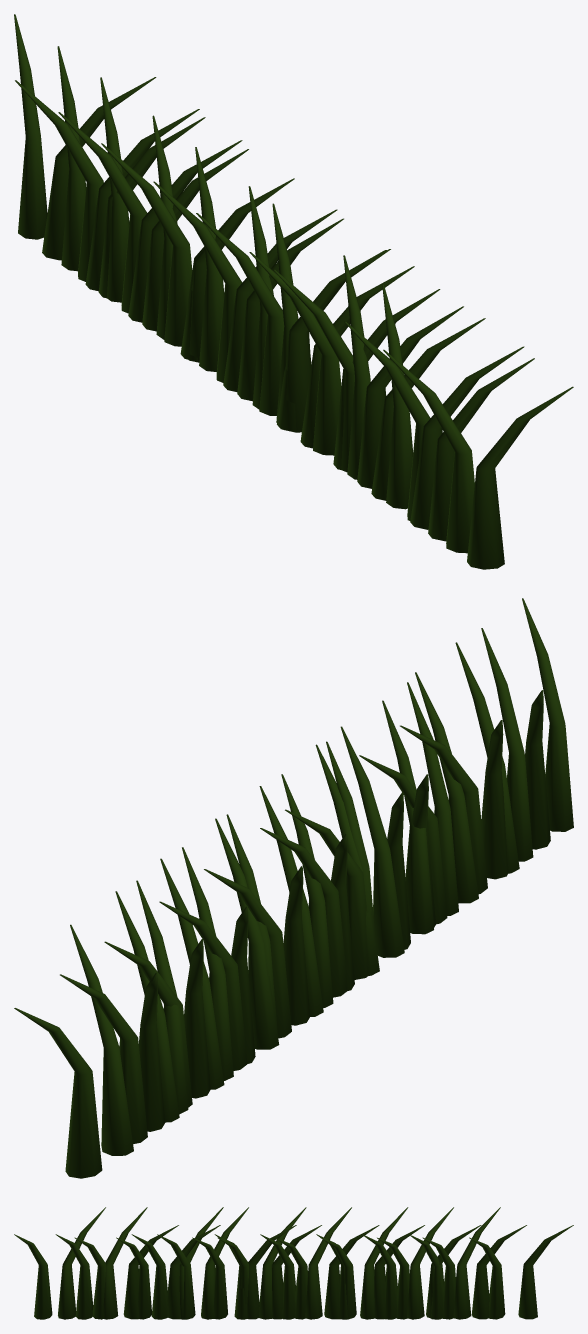
File: Pasto.fbx
3 renders of one model, top to bottom at view 1: azimuth 30°, elevation 25°; view 2: azimuth 150°, elevation 25°; view 3: azimuth 270°, elevation 25°, orthographic. The views are drawn at different scales.
Visible parts, largest first — view 1: Cilindro.002; view 2: Cilindro.002; view 3: Cilindro.002.
Part boxes in pixels (left/top/right/bottom): Cilindro.002: left=14, top=14, right=573, bottom=569; Cilindro.002: left=14, top=598, right=573, bottom=1178; Cilindro.002: left=14, top=1207, right=573, bottom=1319.
Bounding box in the file's own units: 46.91 × 72.32 × 377.
